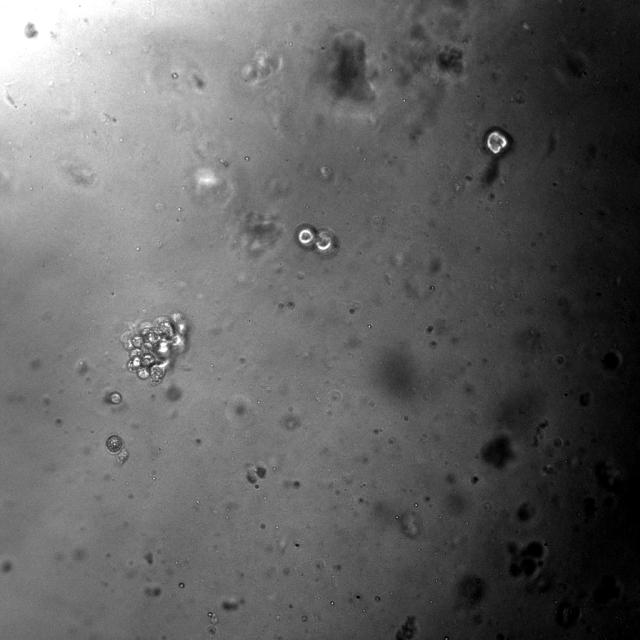organoid: (121, 313, 186, 385), (295, 223, 339, 257), (105, 434, 129, 464), (486, 132, 507, 155), (246, 465, 266, 483), (109, 392, 121, 403), (254, 483, 260, 490), (178, 582, 184, 588)
